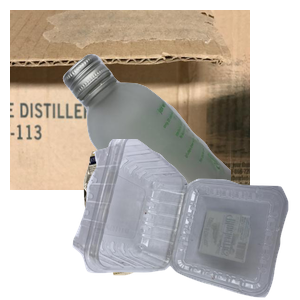cardboard: (10, 10, 250, 190)
glass: (60, 51, 300, 231)
plastic: (70, 139, 300, 300)
trash: (81, 137, 280, 300)
